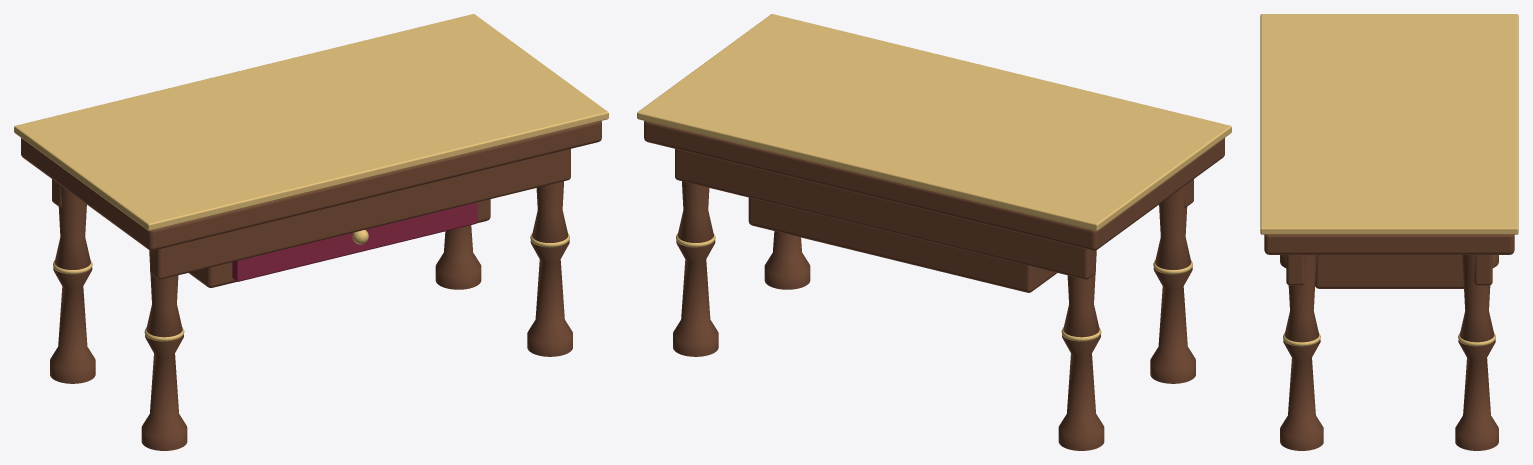
The model's file is royal-court-and-throne-palace-court-dispatch-desk-7e1d0611__29394.glb.
3 views of the same model, side by side, from view 1: azimuth 30°, elevation 25°; view 2: azimuth 150°, elevation 25°; view 3: azimuth 270°, elevation 25° (orthographic). The views are drawn at different scales.
Parts seen in each view (by area): view 1: court-dispatch-desk; view 2: court-dispatch-desk; view 3: court-dispatch-desk.
Boxes of the visible parts, bbox=[...] form: court-dispatch-desk: bbox=[14, 14, 608, 450]; court-dispatch-desk: bbox=[637, 14, 1231, 450]; court-dispatch-desk: bbox=[1260, 14, 1518, 450].
Size of the model in its own units: 1.62 by 0.8149 by 0.8251.
